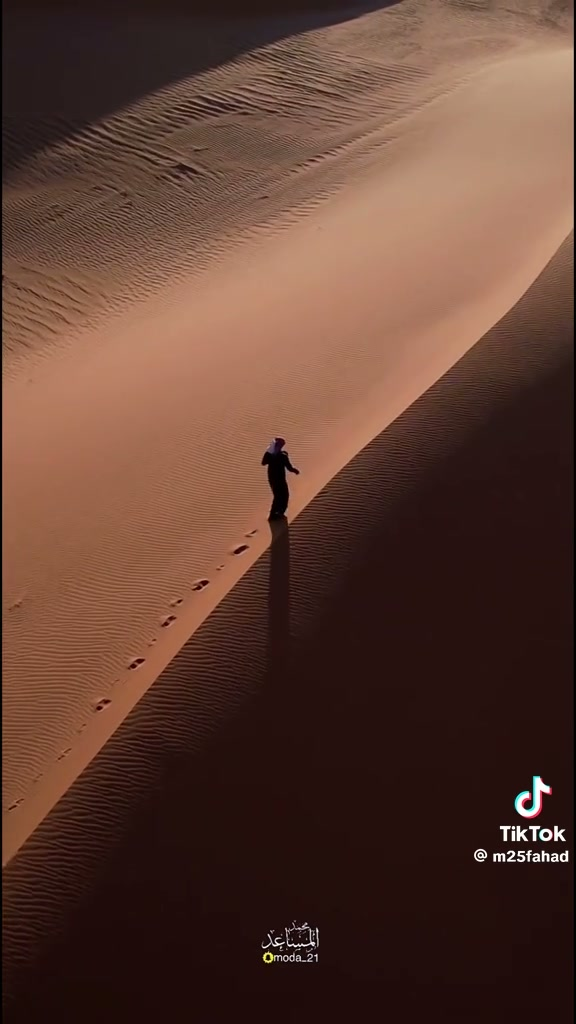human_footprint: (232, 528, 258, 555), (8, 596, 23, 612), (161, 614, 177, 628), (230, 543, 248, 555), (191, 579, 209, 591), (94, 698, 110, 711), (192, 579, 209, 591), (128, 657, 144, 669), (9, 797, 22, 811), (57, 747, 71, 760), (232, 544, 248, 554), (170, 597, 183, 607), (245, 528, 257, 537), (147, 637, 157, 646), (216, 563, 225, 571)
